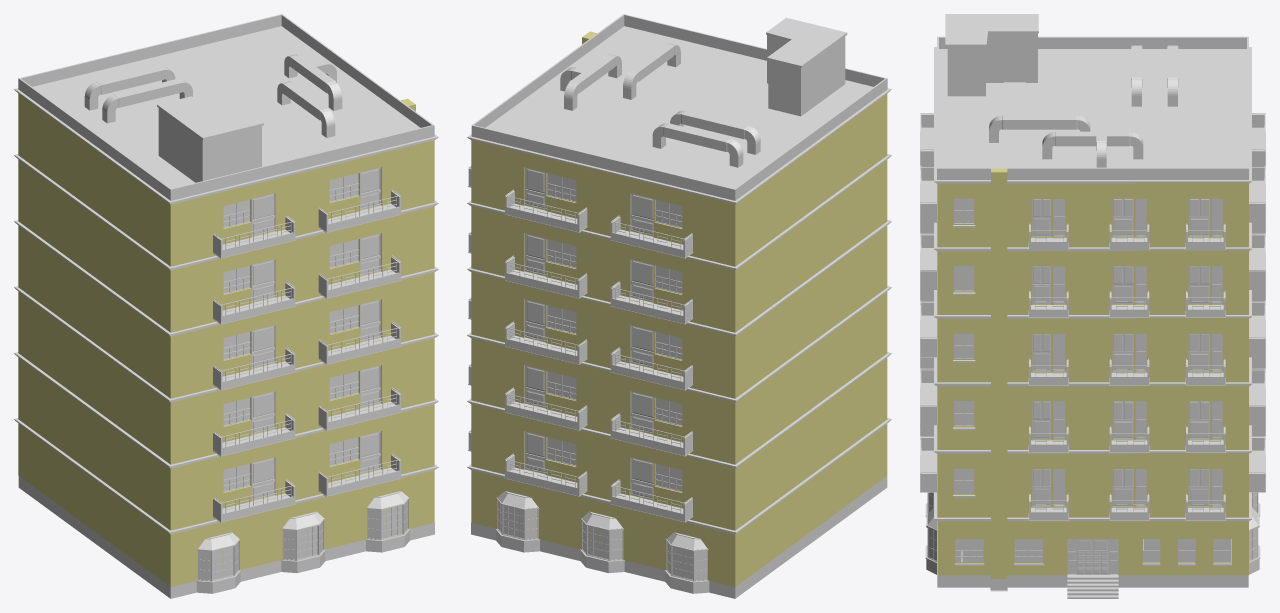
The model's file is building2.glb.
3 renders of one model, left to right at view 1: azimuth 30°, elevation 25°; view 2: azimuth 150°, elevation 25°; view 3: azimuth 270°, elevation 25°, orthographic. The views are drawn at different scales.
Parts seen in each view (by area): view 1: Floors, Roof, Ground Floor, side windows; view 2: Floors, Roof, Ground Floor, side windows; view 3: Floors, Roof, Ground Floor, Main Door, side windows, Stairs.
Boxes of the visible parts, x1,y1,x2,y2 form: Floors: [14, 154, 438, 530]; Roof: [14, 14, 438, 266]; Ground Floor: [14, 418, 438, 598]; side windows: [196, 491, 410, 593]; Floors: [467, 154, 891, 530]; Roof: [467, 14, 891, 266]; Ground Floor: [467, 418, 891, 598]; side windows: [495, 491, 709, 593]; Floors: [920, 184, 1265, 521]; Roof: [920, 14, 1265, 251]; Ground Floor: [934, 454, 1251, 591]; Main Door: [1067, 539, 1118, 574]; side windows: [925, 492, 1260, 574]; Stairs: [1067, 575, 1118, 598].
Bounding box in the file's own units: 220 × 325 × 222.
